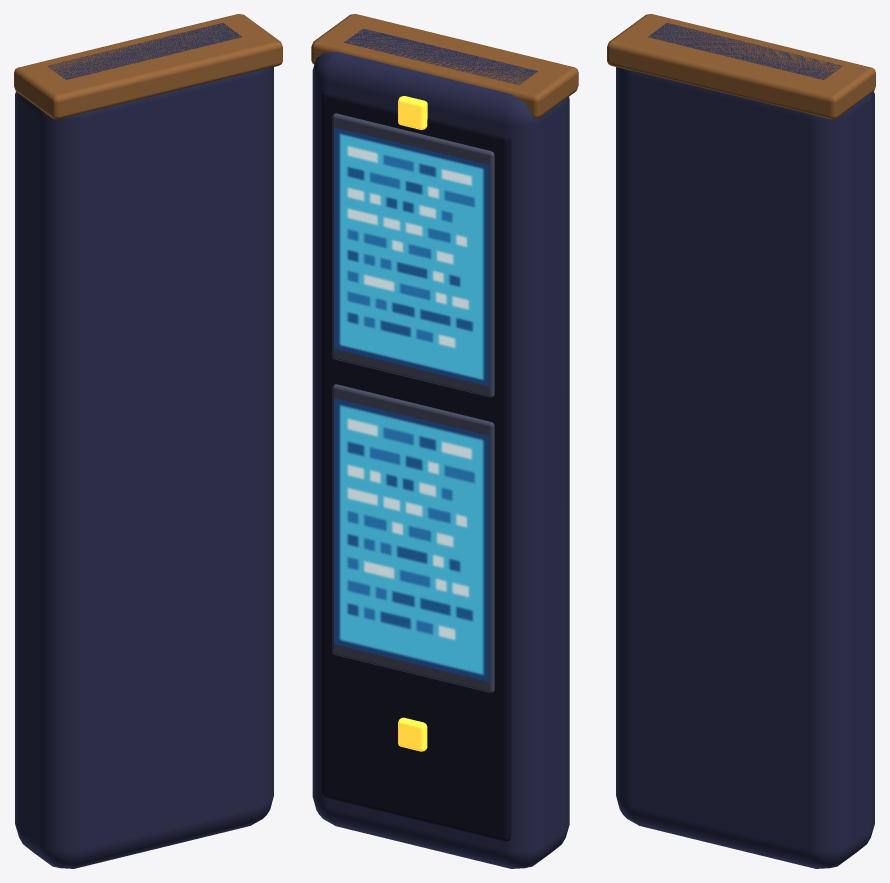
File: prop.props_walls.walls_qb_glyph.glb
The picture shows the model from 3 angles, left to right: view 1: azimuth 30°, elevation 25°; view 2: azimuth 150°, elevation 25°; view 3: azimuth 330°, elevation 25°; orthographic projection.
Parts seen in each view (by area): view 1: prop.props_walls.walls_qb_glyph; view 2: prop.props_walls.walls_qb_glyph; view 3: prop.props_walls.walls_qb_glyph.
Boxes of the visible parts, <box> form: prop.props_walls.walls_qb_glyph: <box>14,14,282,868</box>; prop.props_walls.walls_qb_glyph: <box>311,14,578,868</box>; prop.props_walls.walls_qb_glyph: <box>607,14,875,868</box>.
Bounding box in the file's own units: 0.34 × 1.11 × 0.145.
Materials: 6 (1 with a texture image).
